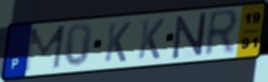0: (63, 23, 94, 70)
K: (136, 18, 167, 61), (102, 21, 133, 64)
M: (22, 24, 67, 74)
N: (171, 11, 208, 61)
R: (203, 7, 242, 60)
